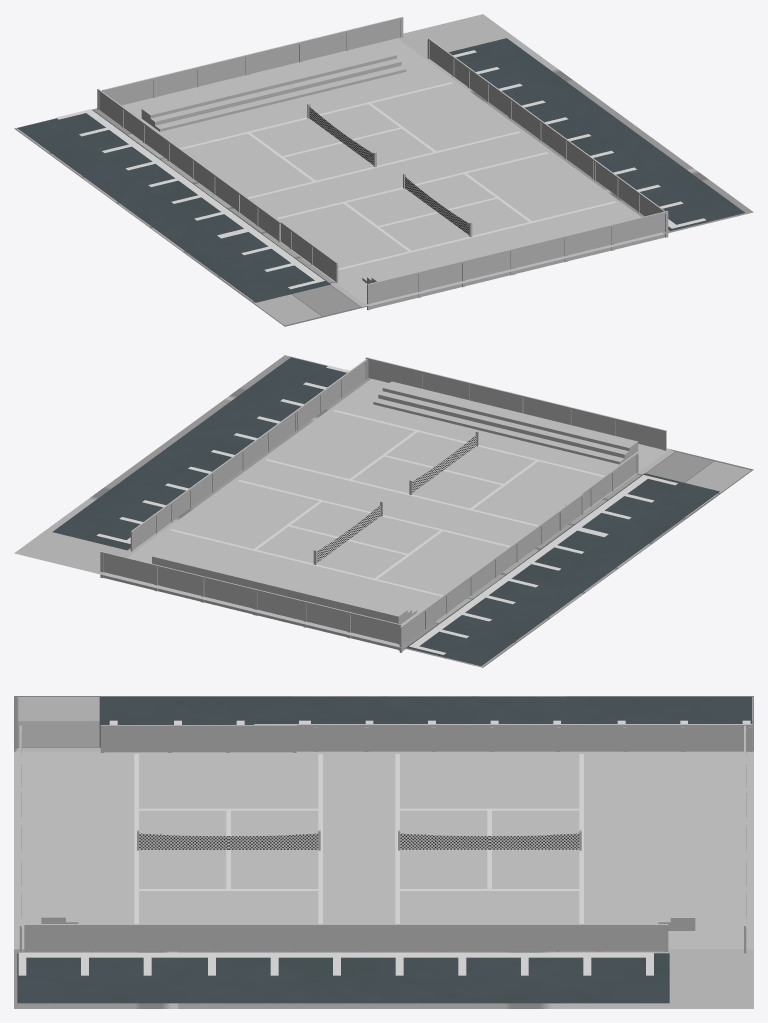
Rendered from tile_poi_tennis_court_6x6_b.fbx.
3 views of the same model, one above another, from view 1: azimuth 30°, elevation 25°; view 2: azimuth 150°, elevation 25°; view 3: azimuth 270°, elevation 25° (orthographic). The views are drawn at different scales.
Visible parts, largest first — view 1: tile_poi_tennis_court_6x6_b; view 2: tile_poi_tennis_court_6x6_b; view 3: tile_poi_tennis_court_6x6_b.
Part boxes in pixels (x1,y1,x2,y2): tile_poi_tennis_court_6x6_b: (14, 14, 753, 326); tile_poi_tennis_court_6x6_b: (14, 355, 753, 667); tile_poi_tennis_court_6x6_b: (14, 696, 753, 1008).
Bounding box in the file's own units: 9600 × 502 × 9600.
